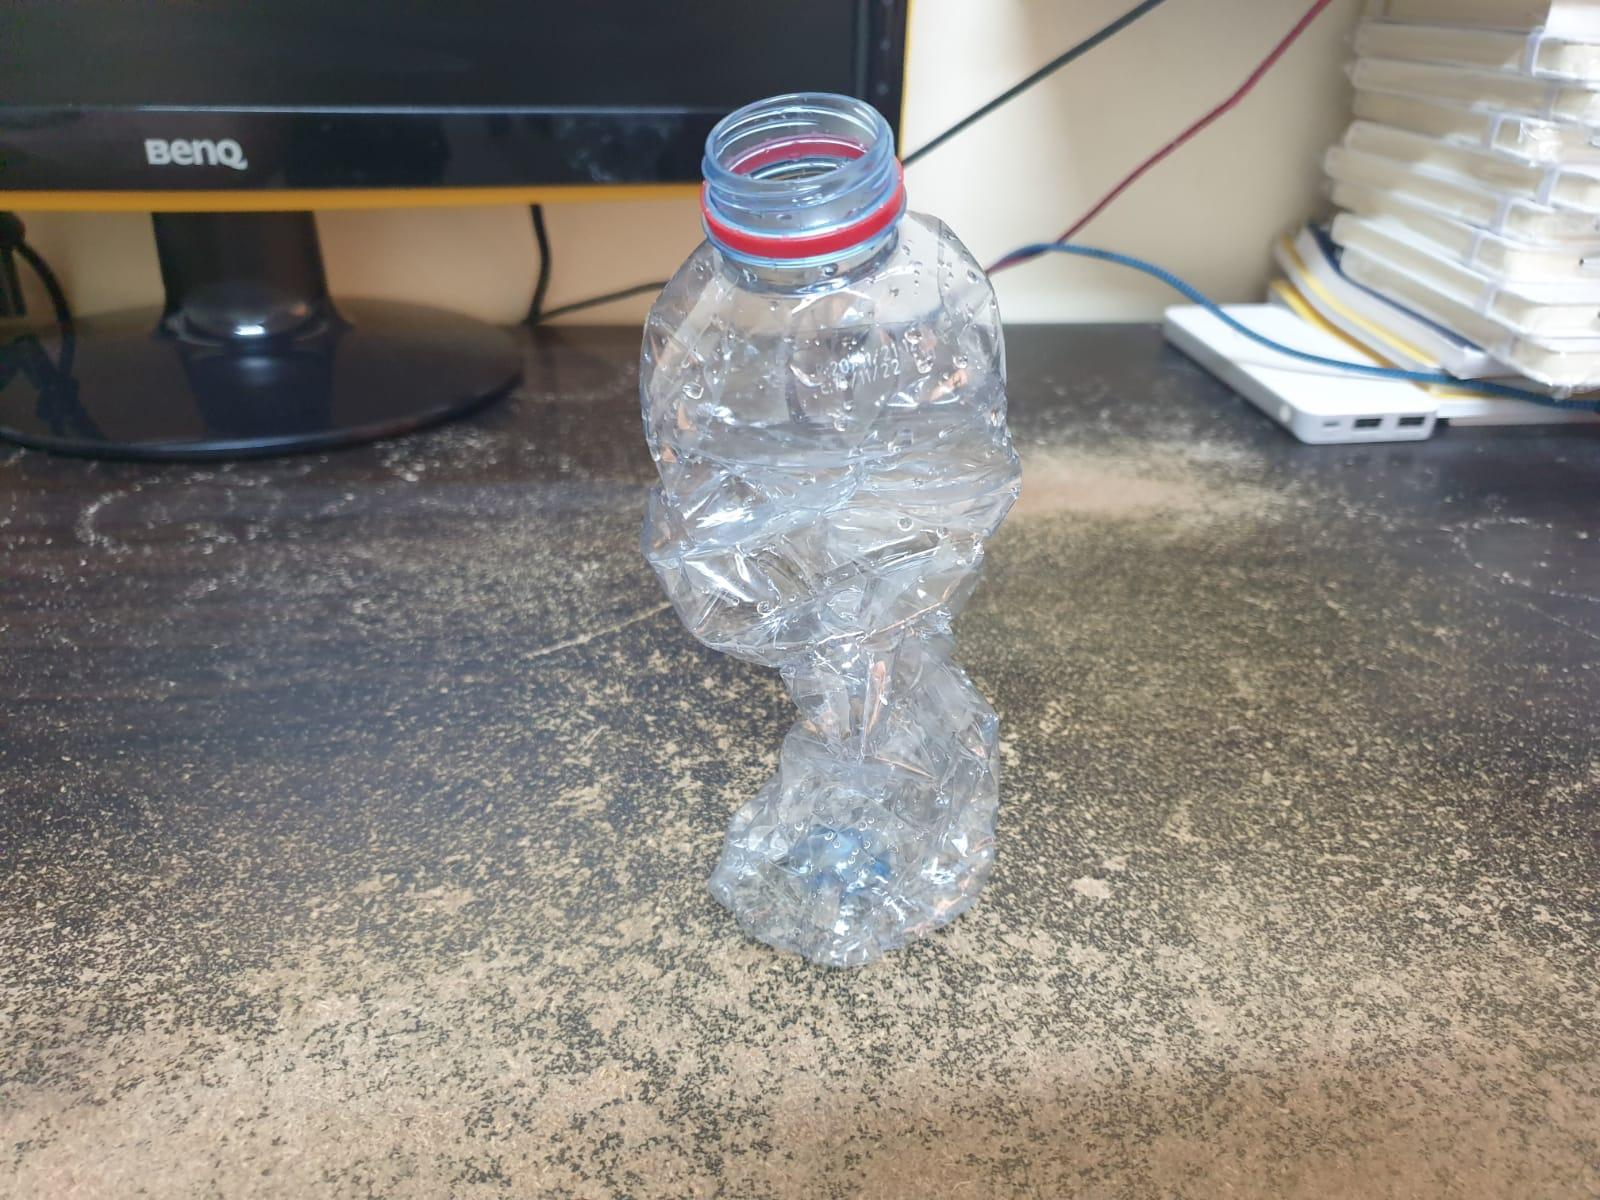bottle: (649, 93, 1010, 961)
